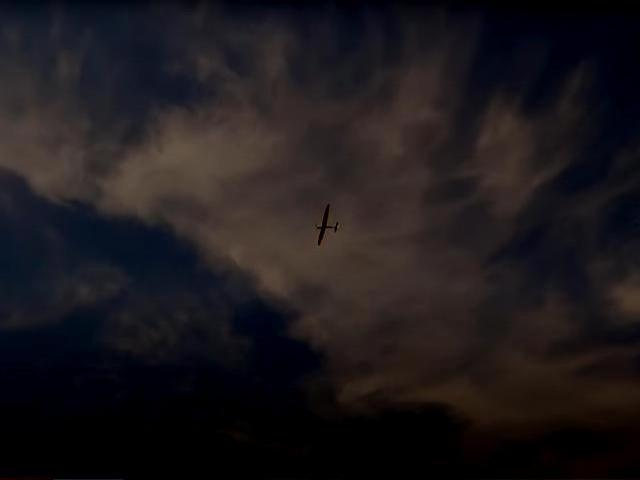iha: (312, 204, 339, 246)
